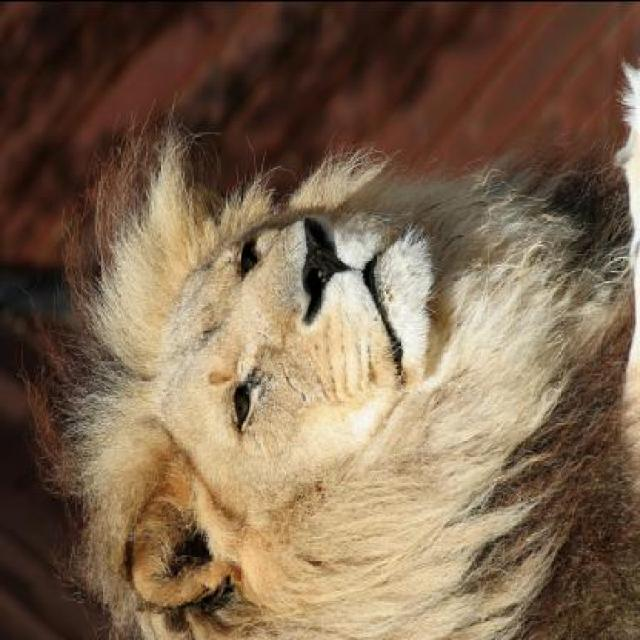Lion: (31, 80, 632, 634)
